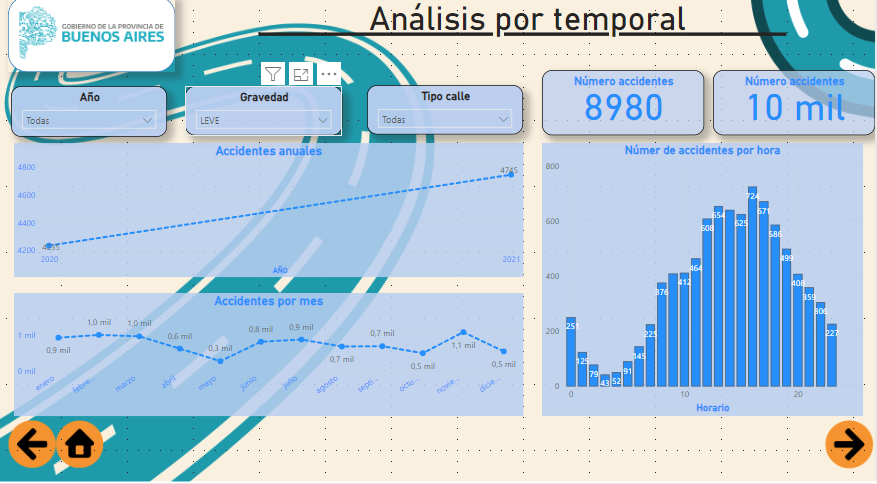

The page's visual inventory and layout, read from the dashboard file:
{"tool":"powerbi","page":{"name":"Análisis temporal","canvas":[1280,720],"ordinal":5},"visuals":[{"type":"group","id":"g1","title":"Grupo 1","box":[18.9,0,242.9,132.4],"z":0},{"type":"shape","box":[18.9,11.4,243.4,110.7],"z":0,"group":"g1"},{"type":"image","box":[27,0,227.2,132],"z":1000,"group":"g1"},{"type":"textbox","box":[378.2,11.6,778.2,85.8],"z":1000},{"type":"slicer","title":"Año","fields":{"Values":["hechos.fecha.Variación.Jerarquía de fechas.Año"]},"box":[23.6,142.3,227.4,73.8],"z":2000},{"type":"slicer","title":"Gravedad","fields":{"Values":["hechos.gravedad"]},"box":[276.2,143.2,229.1,72.4],"z":3000},{"type":"slicer","title":"Tipo calle","fields":{"Values":["hechos.tipo_calle"]},"box":[540.6,141.5,227.4,72.4],"z":4000},{"type":"card","title":"Número accidentes","fields":{"Values":["hechos.Total accidentes"]},"box":[795.6,119.3,235.6,94.5],"z":5000},{"type":"card","title":"Número accidentes","fields":{"Values":["hechos.Total victimas"]},"box":[1044.4,119.3,235.6,94.5],"z":6000},{"type":"lineChart","title":"Accidentes anuales","fields":{"Y":["hechos.Total accidentes"],"Category":["hechos.fecha.Variación.Jerarquía de fechas.Año"]},"box":[26.9,225.7,741.1,195.4],"z":7000},{"type":"lineChart","title":"Accidentes por mes","fields":{"Y":["hechos.Total accidentes"],"Category":["hechos.fecha.Variación.Jerarquía de fechas.Mes"]},"box":[26.9,442.9,741.1,178.5],"z":8000},{"type":"columnChart","title":"Númer de accidentes por hora","fields":{"Category":["hechos.hh"],"Y":["CountNonNull(hechos.hh)"]},"box":[795.6,225.5,466.9,397.1],"z":9000},{"type":"actionButton","box":[1200.8,636.6,79.2,62.3],"z":10000},{"type":"actionButton","box":[11.8,633.3,79.2,62.3],"z":11000},{"type":"actionButton","box":[90.9,633.3,79.2,62.3],"z":12000}]}

Visuals, with their boxes in screenshot pixels (x1, y1, x2, y2), scaled from the page's 1280x720 canvas onto the 877x484 screenshot:
"Grupo 1" group: [x1=13, y1=0, x2=179, y2=89]
shape: [x1=13, y1=8, x2=180, y2=82]
image: [x1=18, y1=0, x2=174, y2=89]
textbox: [x1=259, y1=8, x2=792, y2=65]
"Año" slicer: [x1=16, y1=96, x2=172, y2=145]
"Gravedad" slicer: [x1=189, y1=96, x2=346, y2=145]
"Tipo calle" slicer: [x1=370, y1=95, x2=526, y2=144]
"Número accidentes" card: [x1=545, y1=80, x2=707, y2=144]
"Número accidentes" card: [x1=716, y1=80, x2=876, y2=144]
"Accidentes anuales" lineChart: [x1=18, y1=152, x2=526, y2=283]
"Accidentes por mes" lineChart: [x1=18, y1=298, x2=526, y2=418]
"Númer de accidentes por hora" columnChart: [x1=545, y1=152, x2=865, y2=419]
actionButton: [x1=823, y1=428, x2=876, y2=470]
actionButton: [x1=8, y1=426, x2=62, y2=468]
actionButton: [x1=62, y1=426, x2=117, y2=468]
